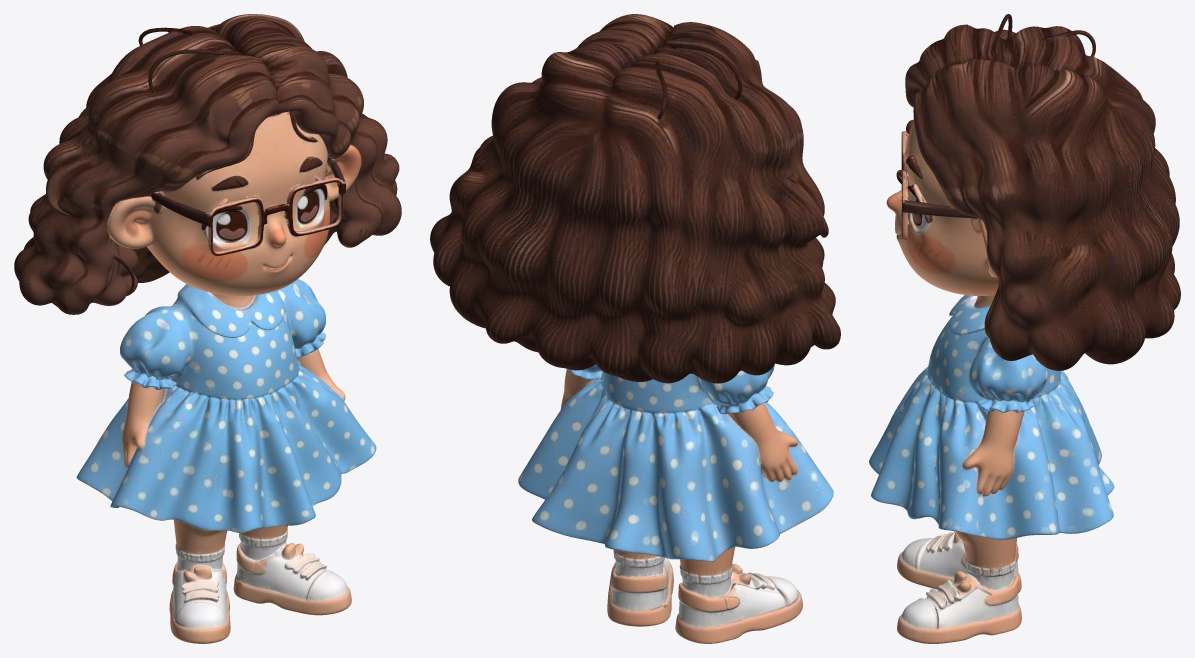
The model's file is sofia-plain.glb.
3 views of the same model, side by side, from view 1: azimuth 30°, elevation 25°; view 2: azimuth 150°, elevation 25°; view 3: azimuth 270°, elevation 25° (orthographic). The views are drawn at different scales.
Size of the model in its own units: 1.34 by 1.9 by 0.9412.
1 material, 1 textured.
